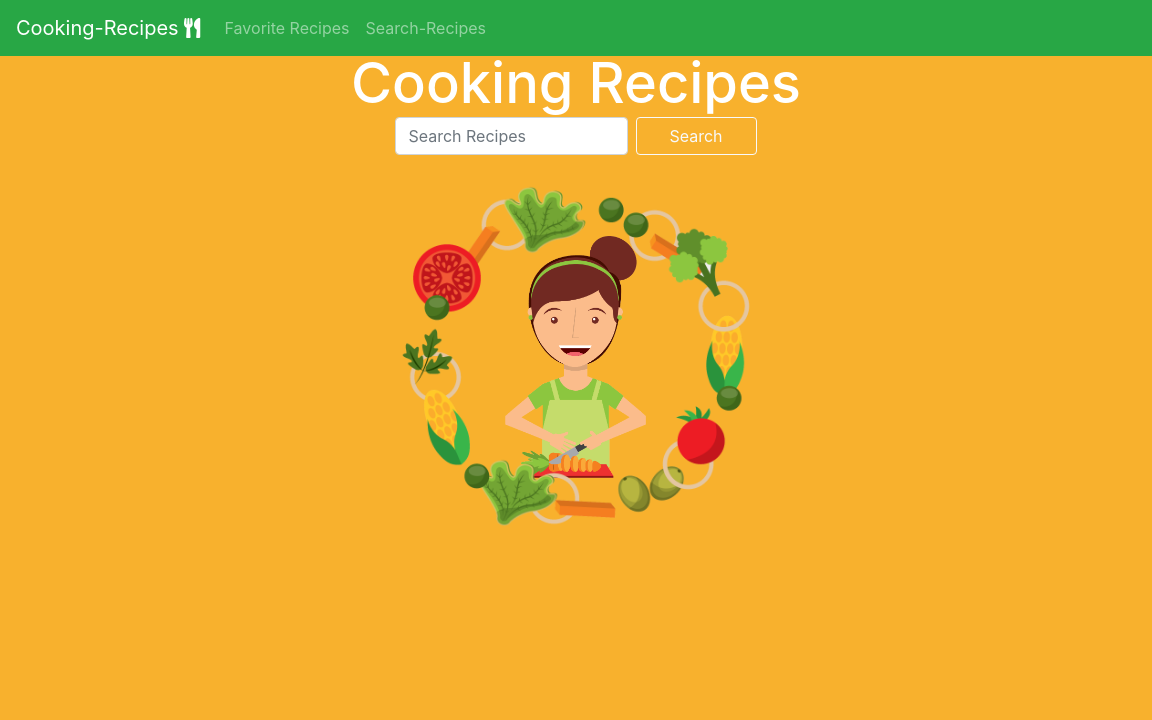
Scenario: should render empty saved recipes component
Click the link with test id "FavRecipes" at (287, 28), box [224,18,350,38]
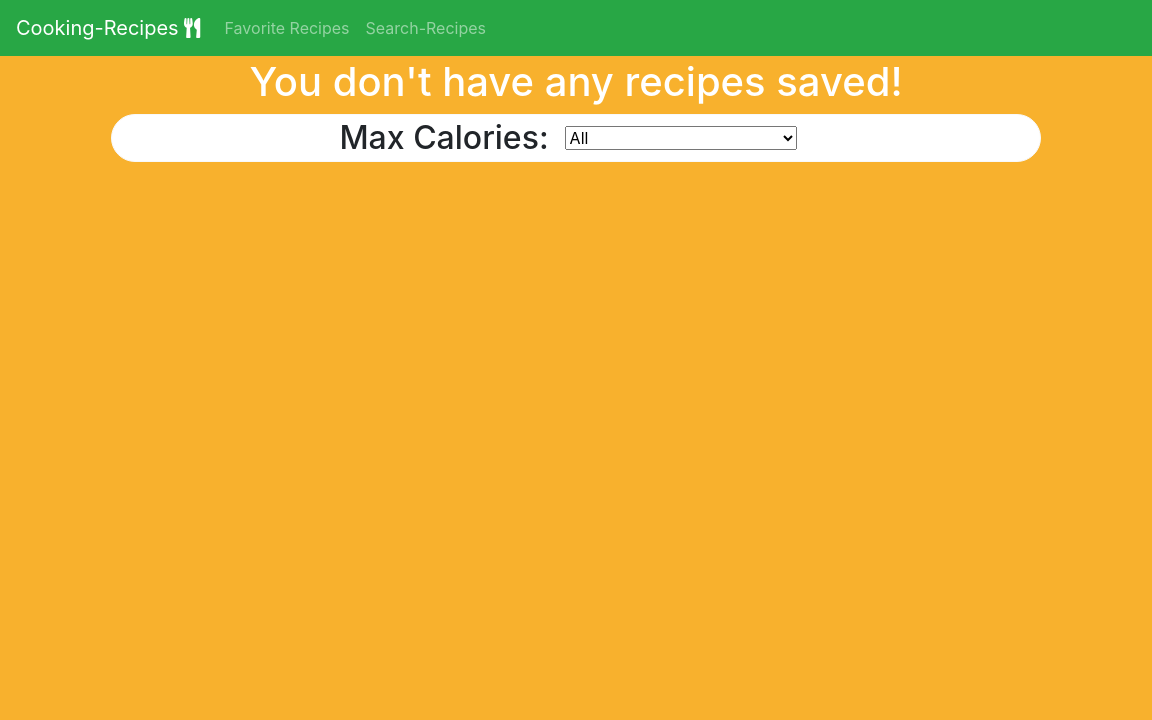
Expected: the text "You don't have any recipes saved!" is shown, [249,57,902,106]
